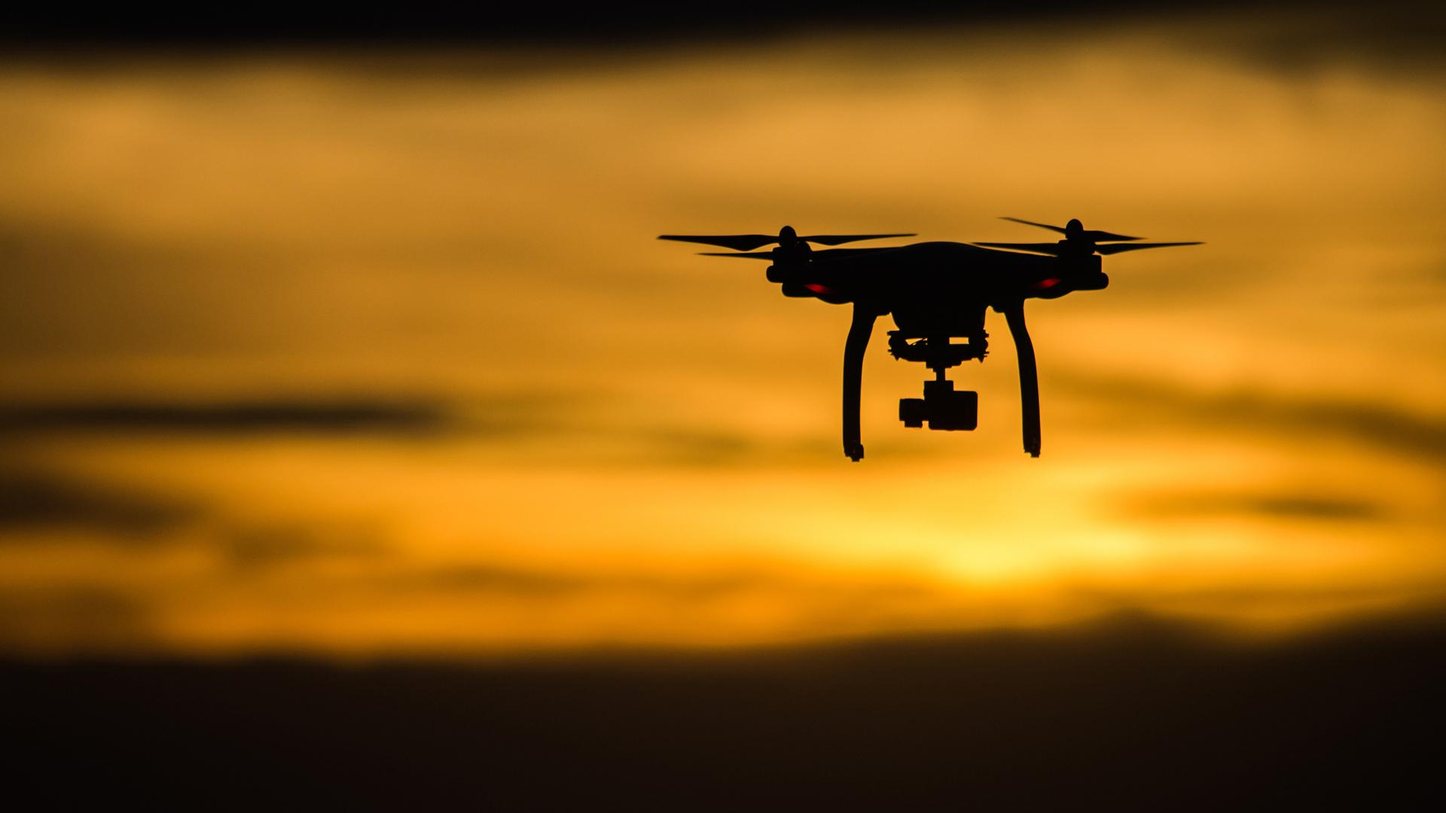drone_other: (654, 215, 1208, 460)
